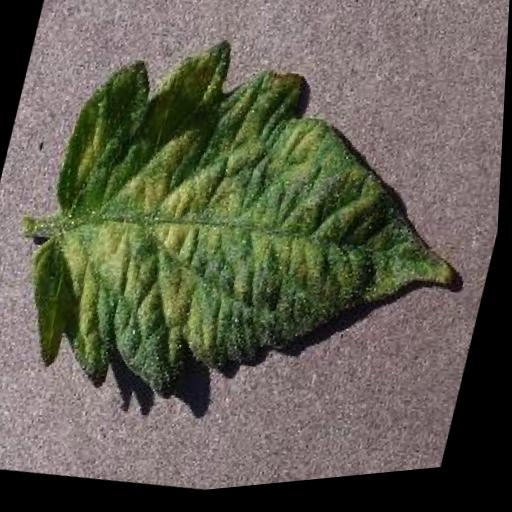Leaf Mold: (13, 0, 510, 461)
